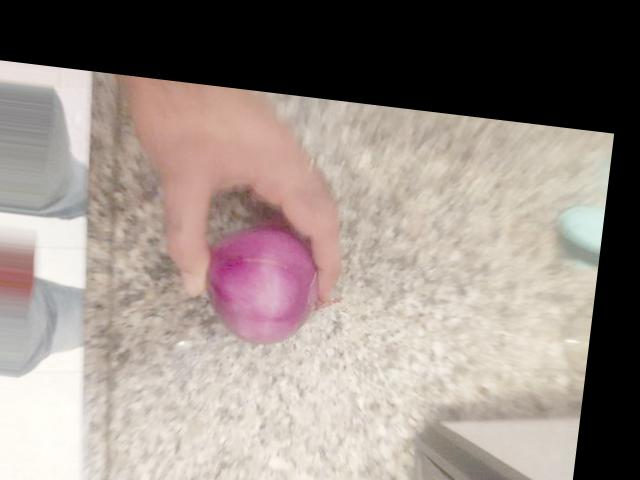onion: (186, 211, 321, 342)
